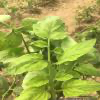Tomato leaf yellow virus: (4, 53, 45, 78), (32, 14, 69, 41), (58, 78, 99, 99), (58, 39, 95, 62), (20, 71, 53, 88)
